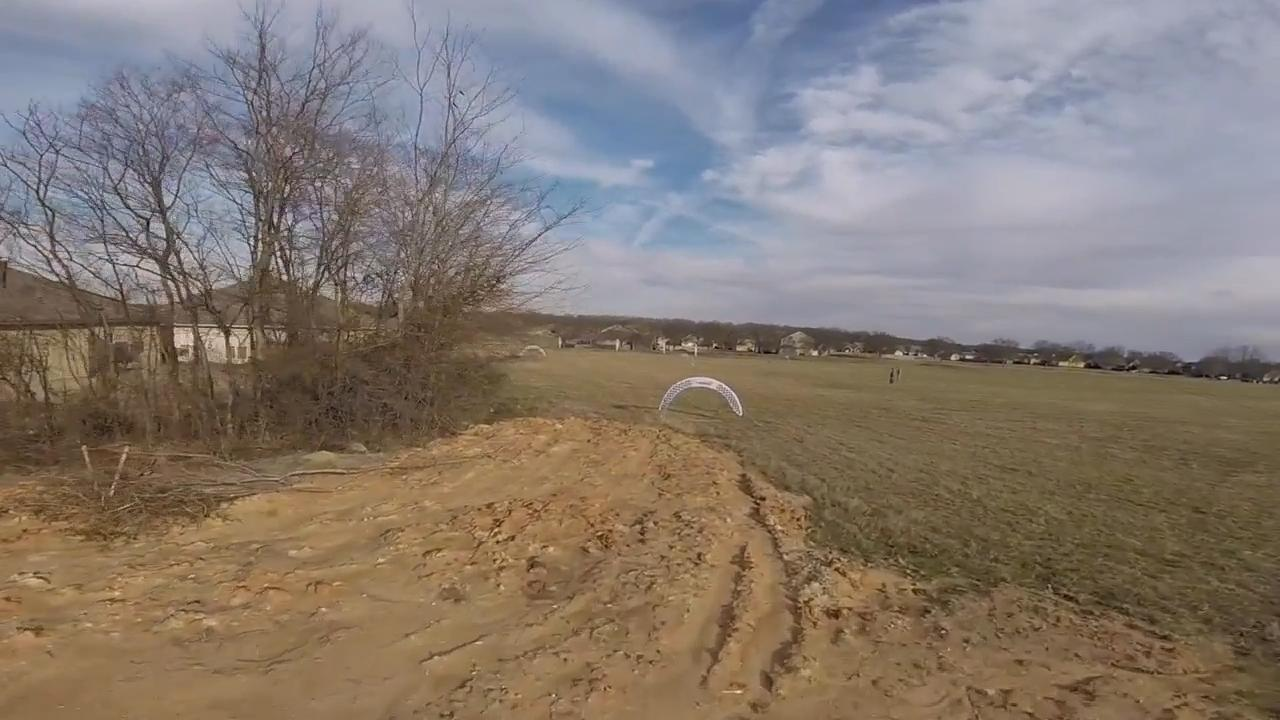gate: (656, 376, 746, 420)
